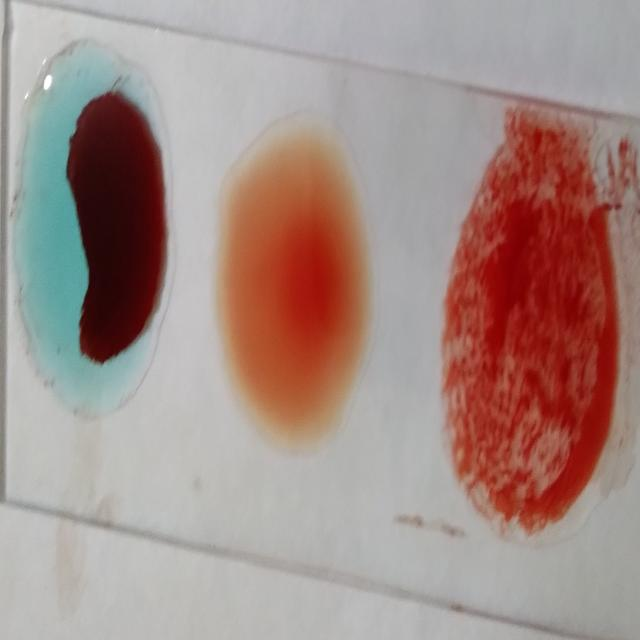A: (22, 49, 171, 432)
D: (437, 129, 616, 552)
